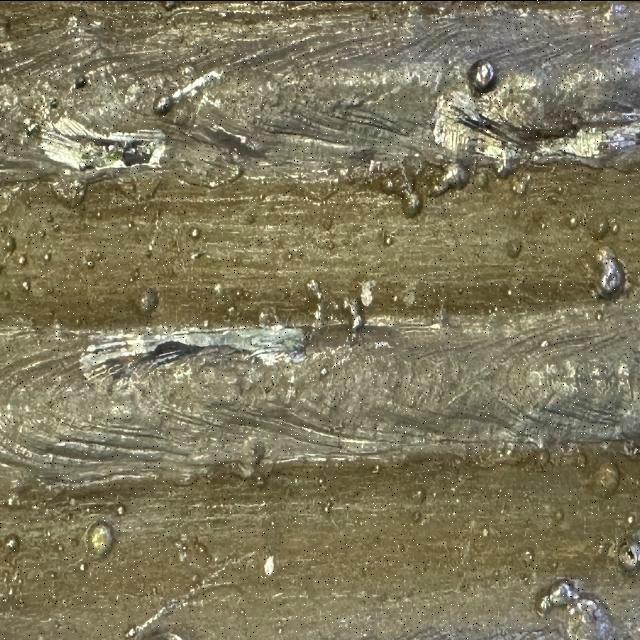Excess Reinforcement: (526, 118, 640, 167), (455, 98, 529, 172), (538, 580, 614, 640), (162, 150, 245, 187), (340, 155, 402, 193), (382, 163, 422, 218), (285, 168, 346, 202), (415, 160, 470, 197), (416, 160, 470, 197), (230, 438, 274, 480), (50, 175, 88, 207), (156, 467, 211, 488), (308, 278, 328, 327), (259, 307, 280, 327)
Spatters: (596, 245, 625, 298), (468, 58, 498, 95), (86, 520, 114, 557), (594, 460, 619, 497), (345, 298, 365, 332), (136, 288, 159, 313), (590, 213, 609, 240), (621, 542, 640, 568), (152, 95, 174, 115), (512, 172, 530, 195), (6, 570, 22, 595), (158, 0, 191, 12), (120, 623, 140, 640), (505, 238, 521, 258), (6, 533, 19, 552), (536, 447, 549, 465), (575, 452, 588, 468), (264, 555, 274, 575), (164, 630, 183, 640), (609, 218, 620, 235), (412, 488, 425, 502), (6, 235, 16, 253), (74, 75, 86, 88), (524, 548, 534, 562), (554, 508, 564, 520), (116, 503, 125, 515), (0, 288, 9, 300), (595, 308, 604, 320), (49, 98, 59, 108), (228, 305, 238, 315), (191, 227, 200, 238), (18, 253, 26, 265), (318, 473, 326, 485), (49, 98, 58, 108), (384, 235, 393, 245), (82, 505, 91, 515), (191, 250, 202, 258), (570, 215, 578, 226), (325, 500, 332, 512), (90, 18, 102, 25), (55, 543, 64, 552), (22, 280, 30, 290), (85, 260, 95, 268), (628, 513, 636, 523), (52, 223, 60, 232), (202, 318, 210, 327), (512, 208, 519, 217), (151, 586, 158, 595), (628, 513, 634, 523), (180, 542, 186, 552), (79, 562, 86, 570), (321, 367, 328, 375), (44, 252, 51, 260), (482, 527, 489, 535), (540, 220, 546, 228), (458, 287, 464, 295), (96, 250, 102, 258), (70, 497, 76, 505), (129, 273, 134, 282), (236, 288, 242, 295), (541, 340, 548, 346), (96, 210, 101, 218), (50, 572, 56, 578), (39, 230, 44, 237), (558, 185, 563, 192), (508, 288, 512, 295), (128, 222, 132, 228)
